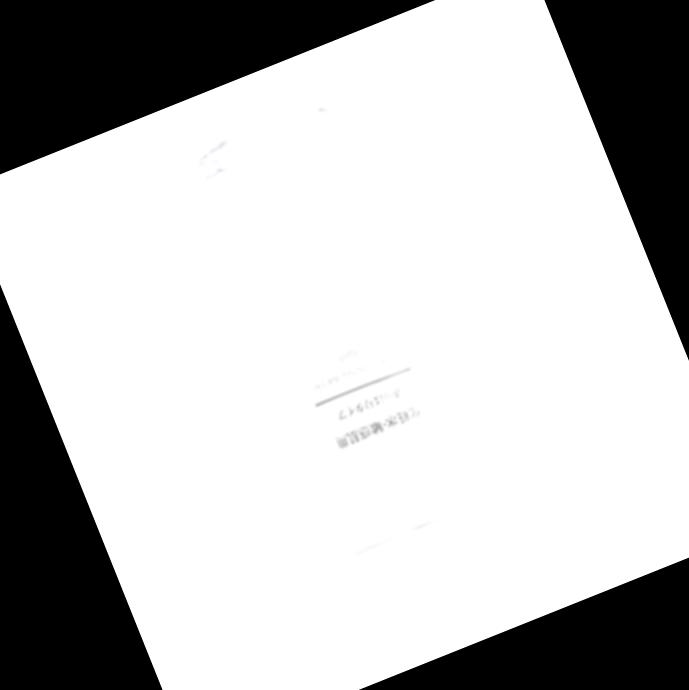cosmetic: (186, 99, 521, 625)
